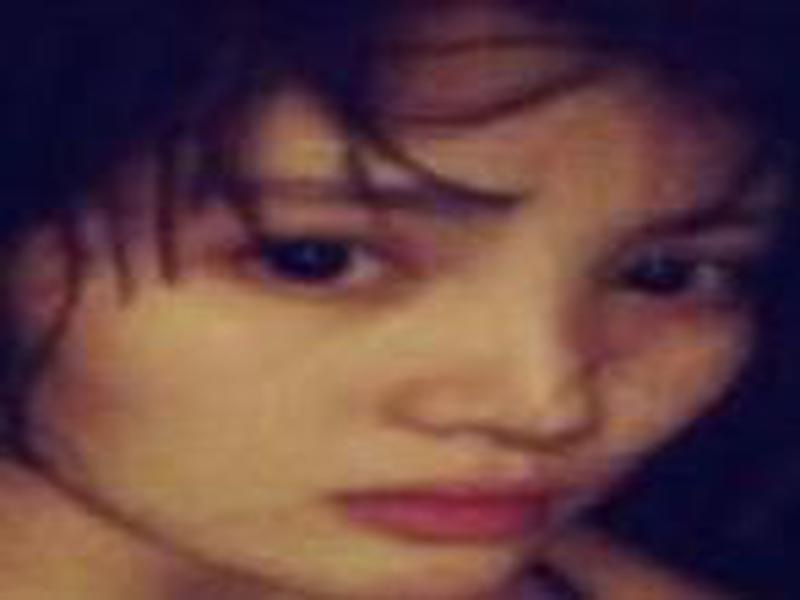without_mask: (31, 68, 763, 591)
